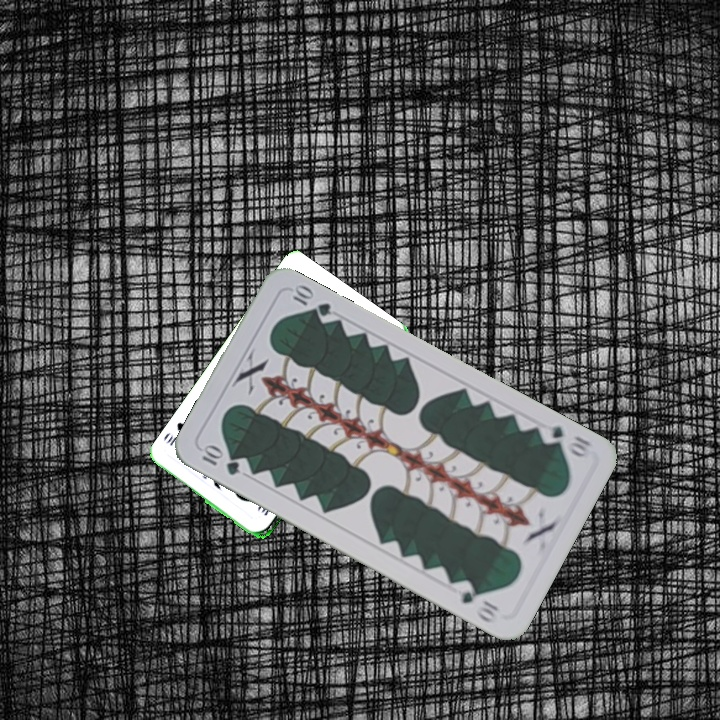G10: (535, 420, 594, 461), (197, 442, 242, 478)
